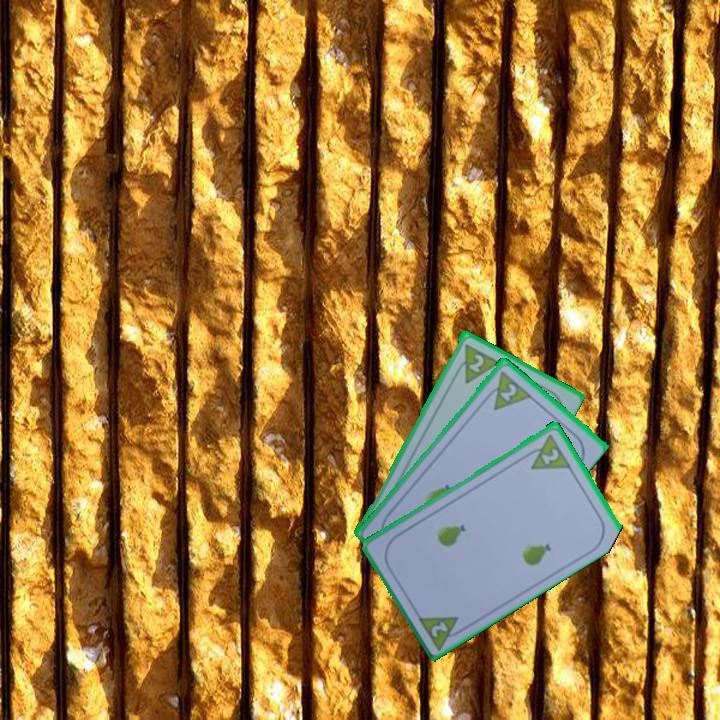2p: (480, 366, 533, 413), (521, 429, 573, 472), (414, 612, 469, 652), (465, 350, 487, 375)
